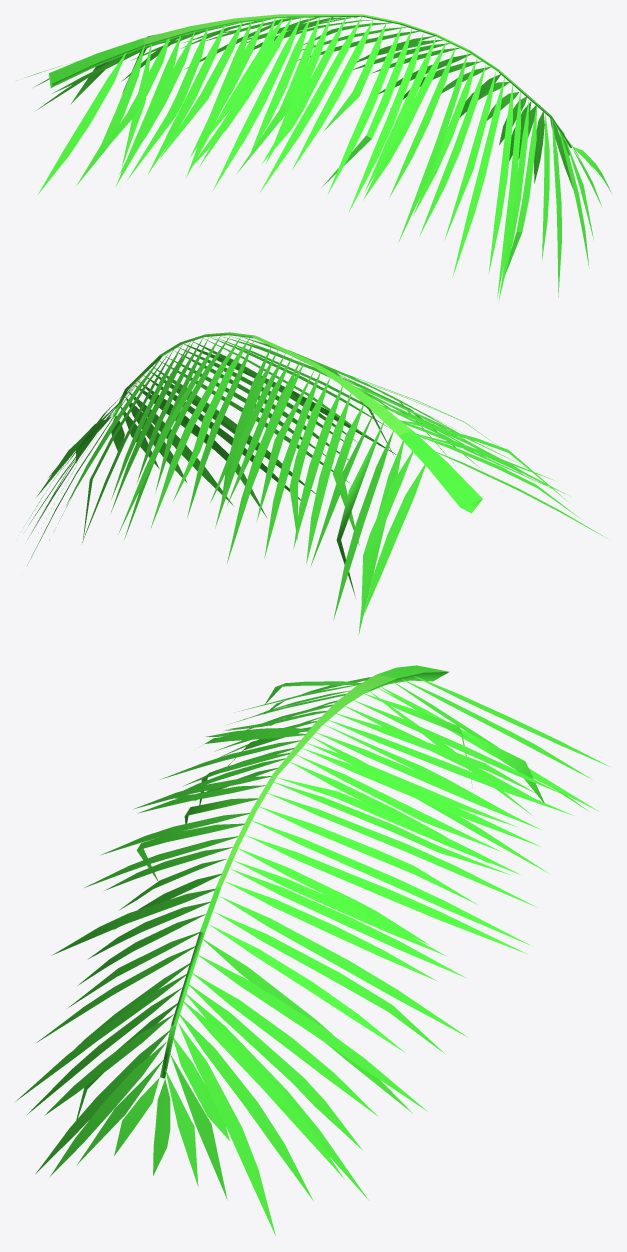
The model's file is daun sejajar.fbx.
The picture shows the model from 3 angles, top to bottom: view 1: azimuth 30°, elevation 25°; view 2: azimuth 150°, elevation 25°; view 3: azimuth 270°, elevation 25°; orthographic projection. The views are drawn at different scales.
Visible parts, largest first — view 1: coco-leaf_003.001; view 2: coco-leaf_003.001; view 3: coco-leaf_003.001.
Part boxes in pixels (x1=…): coco-leaf_003.001: x1=25, y1=14, x2=611, y2=301; coco-leaf_003.001: x1=27, y1=332, x2=607, y2=634; coco-leaf_003.001: x1=15, y1=665, x2=609, y2=1235.
Size of the model in its own units: 205 by 90.23 by 146.
